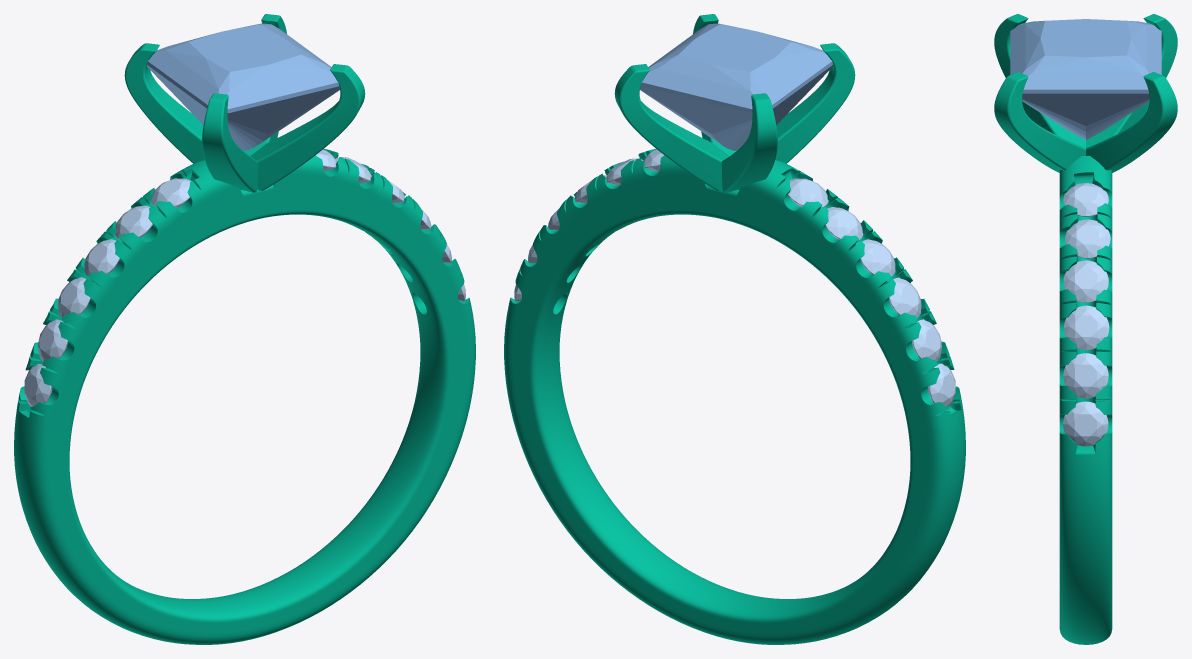
3 views of the same model, side by side, from view 1: azimuth 30°, elevation 25°; view 2: azimuth 150°, elevation 25°; view 3: azimuth 270°, elevation 25° (orthographic).
Visible parts, largest first — view 1: JTC 5746(front).3dm, Diamond_Princess, Diamond_Round (×6); view 2: JTC 5746(front).3dm, Diamond_Princess, Diamond_Round (×6); view 3: JTC 5746(front).3dm, Diamond_Princess, Diamond_Round (×6).
Part boxes in pixels (x1=…): JTC 5746(front).3dm: x1=14, y1=14, x2=475, y2=644; Diamond_Princess: x1=147, y1=23, x2=339, y2=150; Diamond_Round (×6): x1=24, y1=178, x2=191, y2=406; JTC 5746(front).3dm: x1=504, y1=14, x2=965, y2=644; Diamond_Princess: x1=640, y1=23, x2=832, y2=150; Diamond_Round (×6): x1=788, y1=178, x2=955, y2=406; JTC 5746(front).3dm: x1=994, y1=14, x2=1177, y2=644; Diamond_Princess: x1=1010, y1=19, x2=1161, y2=139; Diamond_Round (×6): x1=1063, y1=183, x2=1110, y2=446.
Bounding box in the file's own units: 2.44 × 3.04 × 0.8688.
